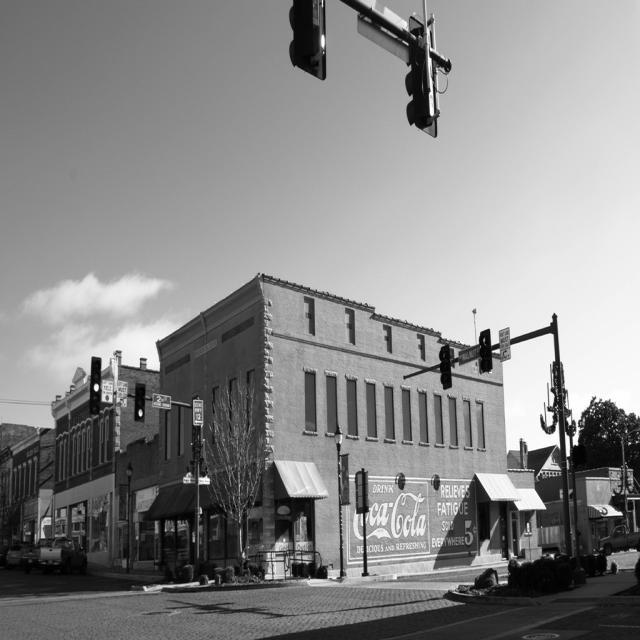off traffic light: (405, 17, 438, 139), (289, 0, 327, 81), (478, 328, 493, 374), (439, 344, 452, 390)
traffic light: (89, 356, 100, 415), (135, 384, 145, 422)
